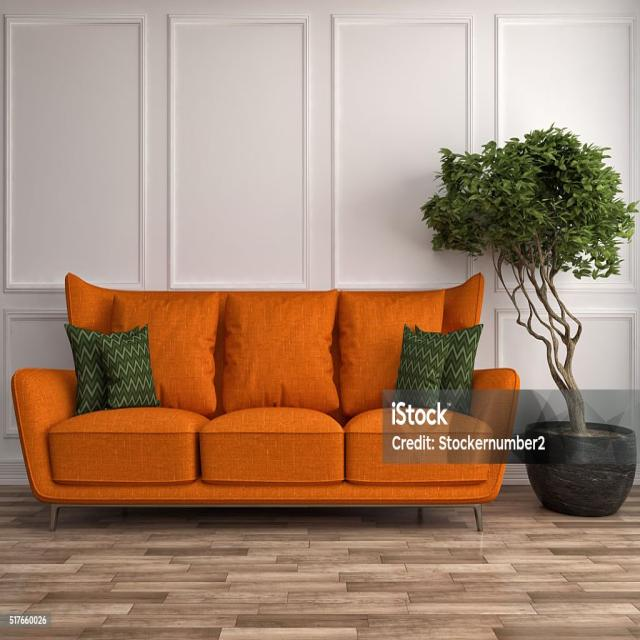back_cushion: (66, 274, 481, 416)
base: (34, 480, 413, 505), (416, 484, 489, 504)
left_arm: (470, 370, 519, 438), (451, 449, 508, 463)
legs: (471, 504, 481, 530), (51, 505, 60, 530)
right_arm: (11, 369, 76, 501)
seat_cushion: (49, 409, 488, 486)
stallion-sofa1: (12, 274, 524, 526)
